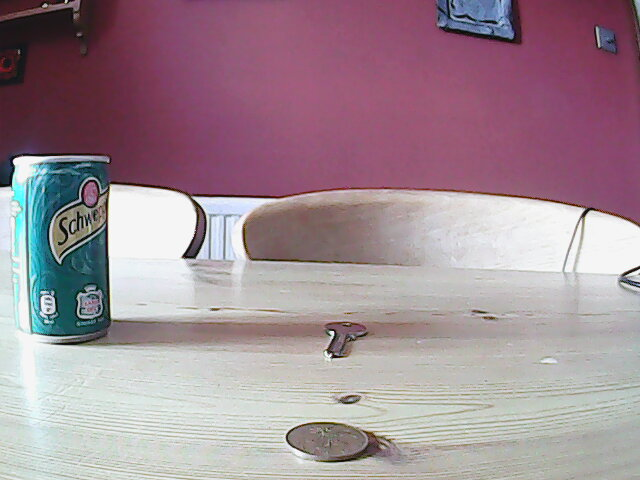Can: (9, 151, 112, 345)
Coin: (281, 419, 371, 464)
Key: (320, 319, 367, 365)
